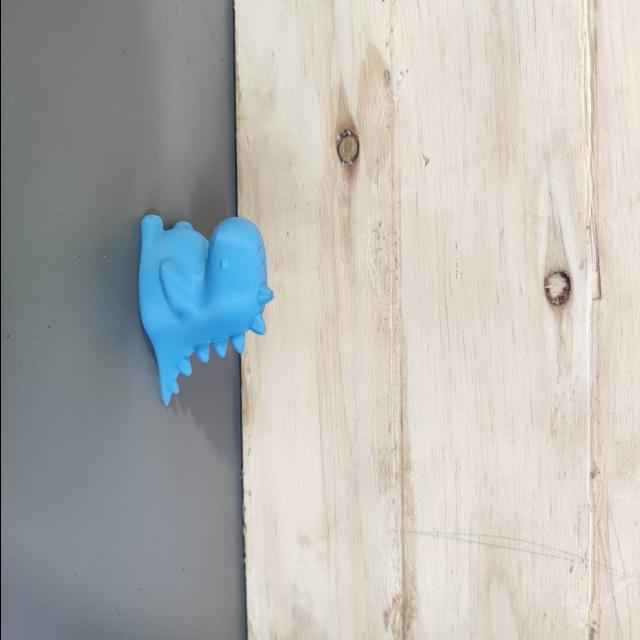DINO: (136, 202, 274, 412)
